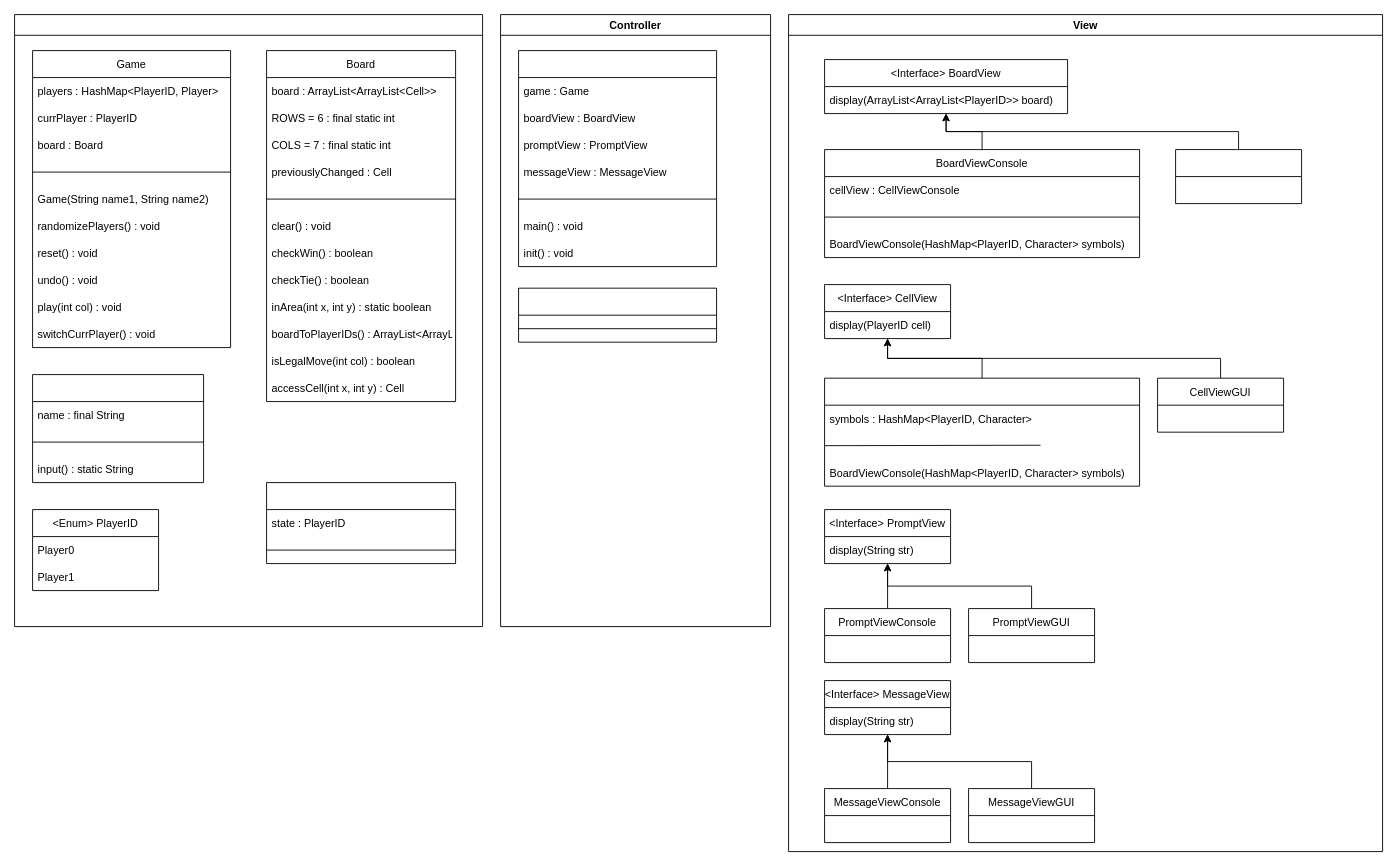
The diagram is 1398 pixels wide and 867 high, and some of its shapes have lost their labels. The box of each missing label's shape, as (x1, y1, x2, y2) in pixels:
BoardViewGUI: (1175, 149, 1302, 204)
Cell: (266, 482, 456, 564)
CellViewConsole: (824, 377, 1140, 486)
ControllerConsole: (518, 50, 717, 267)
ControllerGUI: (518, 287, 717, 342)
Model: (14, 14, 483, 627)
Player: (32, 374, 204, 483)
